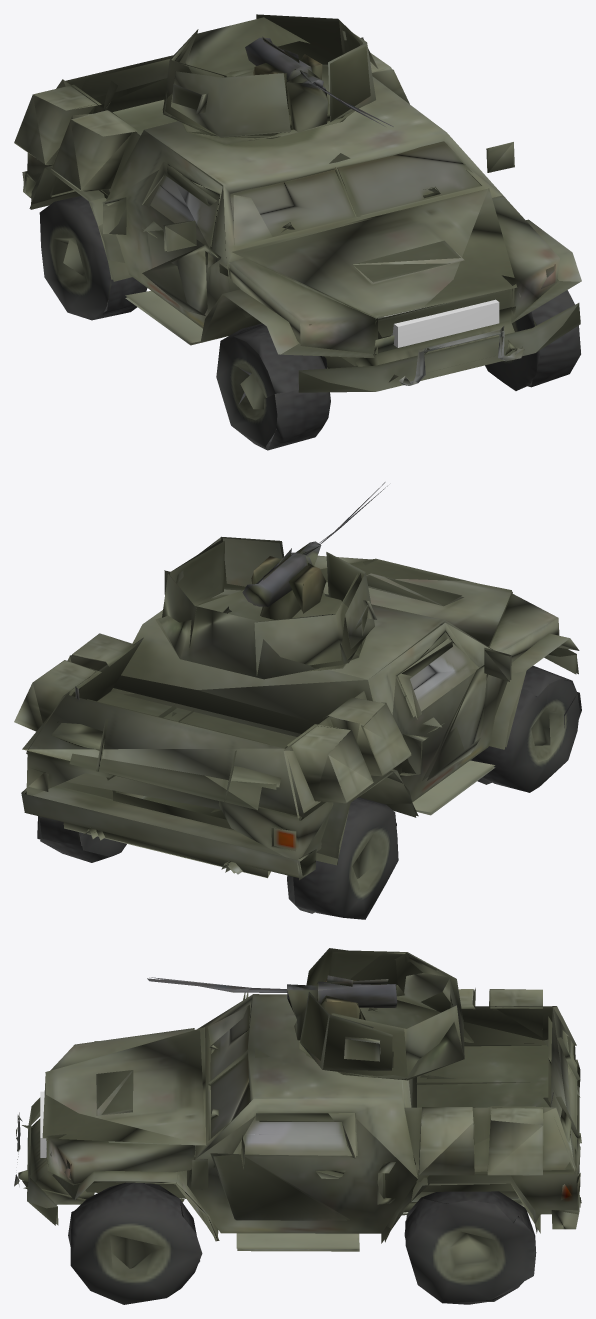
The model's file is us-humvee.glb.
3 views of the same model, one above another, from view 1: azimuth 30°, elevation 25°; view 2: azimuth 150°, elevation 25°; view 3: azimuth 270°, elevation 25° (orthographic). The views are drawn at different scales.
Parts seen in each view (by area): view 1: us-humvee, turret; view 2: us-humvee, turret; view 3: us-humvee, turret.
Part boxes in pixels (bbox=[...]): us-humvee: bbox=[14, 78, 581, 450]; turret: bbox=[33, 14, 514, 265]; us-humvee: bbox=[14, 555, 581, 919]; turret: bbox=[22, 482, 511, 820]; us-humvee: bbox=[14, 990, 581, 1304]; turret: bbox=[147, 948, 577, 1178].
Size of the model in its own units: 0.516 by 0.3964 by 0.774.
2 materials, 1 textured.
